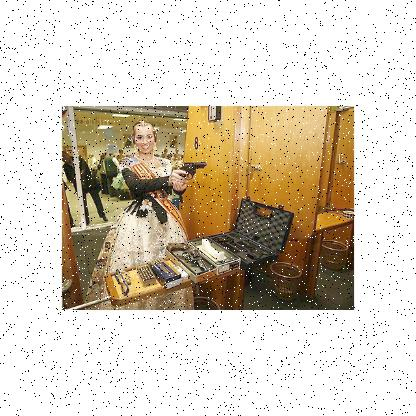gun: (166, 240, 206, 272), (174, 160, 206, 190)
